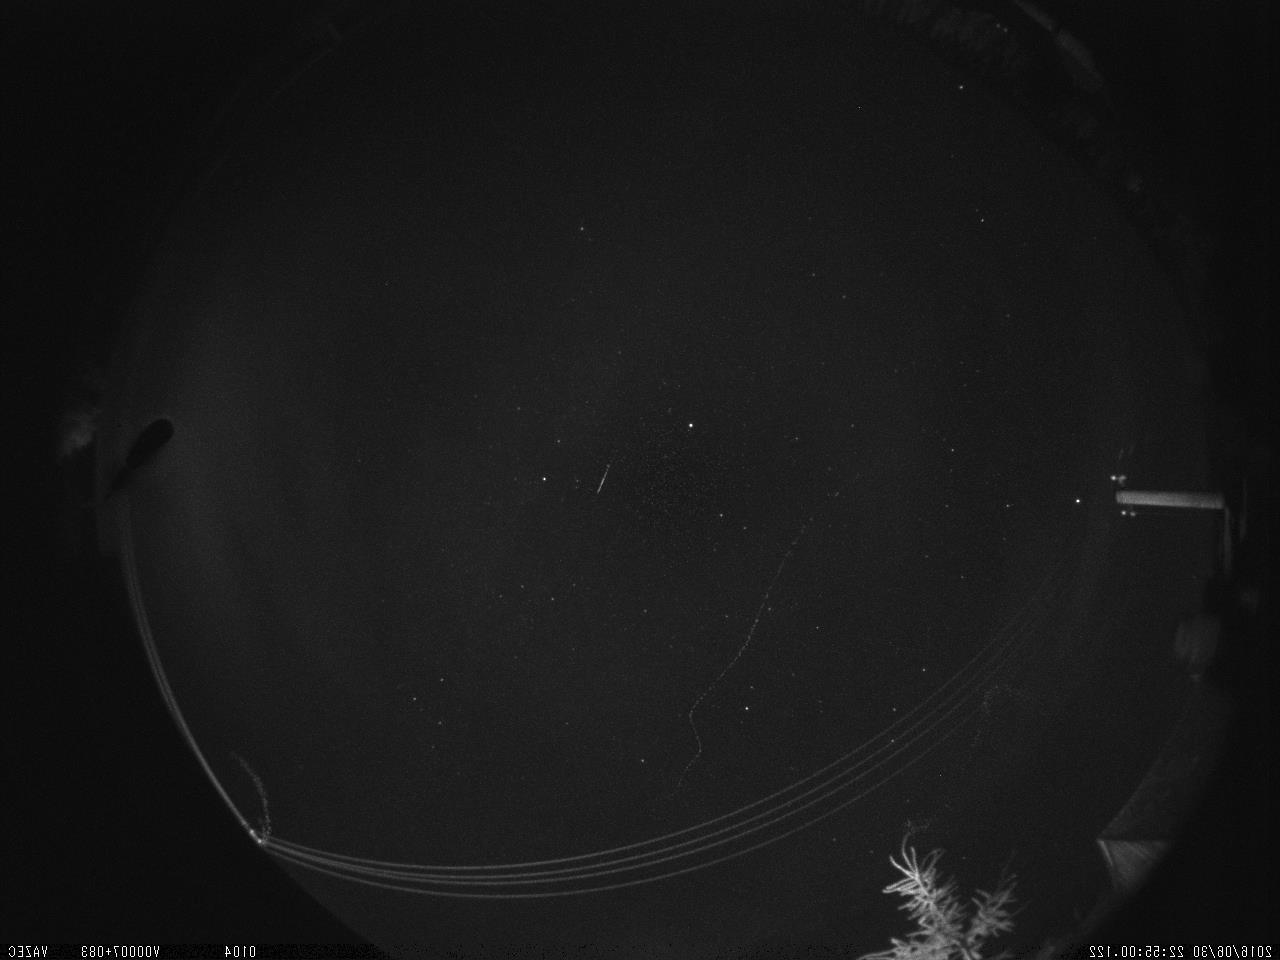meteor: (579, 438, 640, 520)
